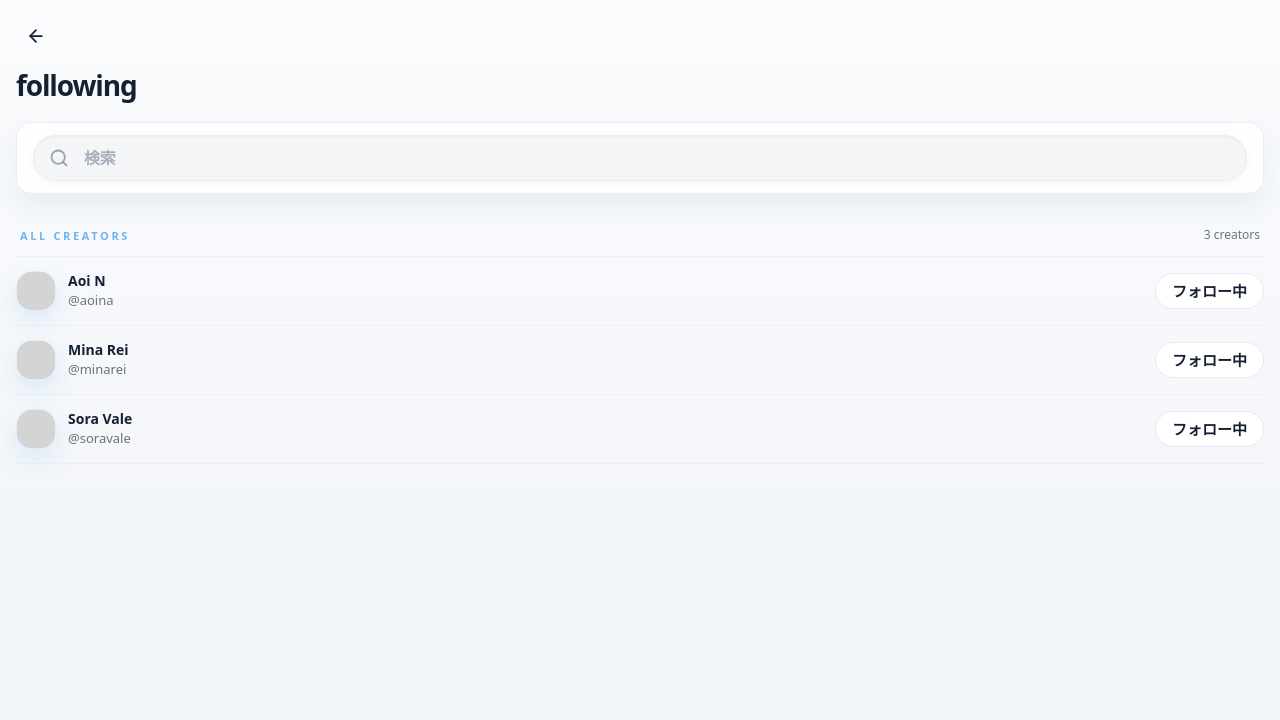
Test: FollowingShell › shows a generic retry message when unfollow fails with a non-network api error
This screenshot has width=1280, height=720.
Click the button "フォロー中" in the row of "@aoina". click: (1210, 291)
box: x1=1155 y1=273 x2=1264 y2=309
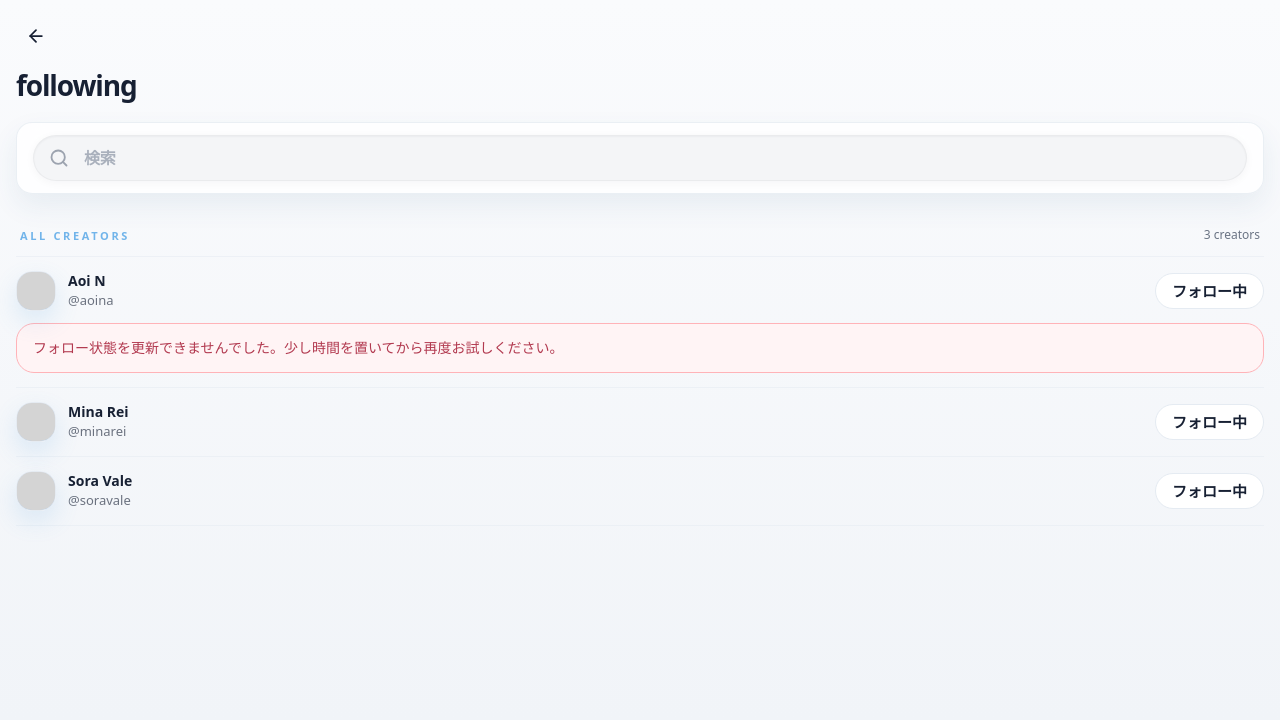
Now the message reads "フォロー状態を更新できませんでした。少し時間を置いてから再度お試しください。", box x1=33 y1=338 x2=564 y2=357
